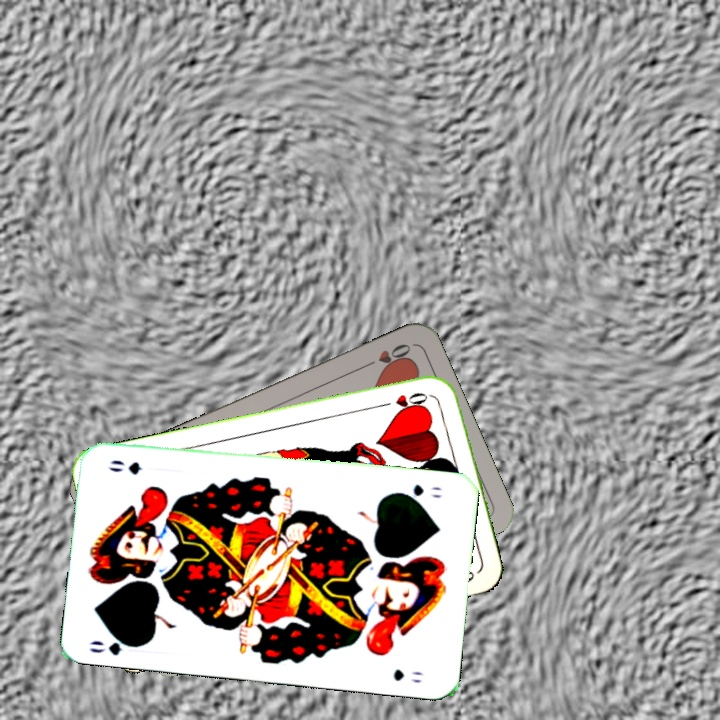GO: (85, 631, 145, 658), (393, 480, 444, 502)
HO: (358, 339, 414, 372), (379, 388, 438, 416)
